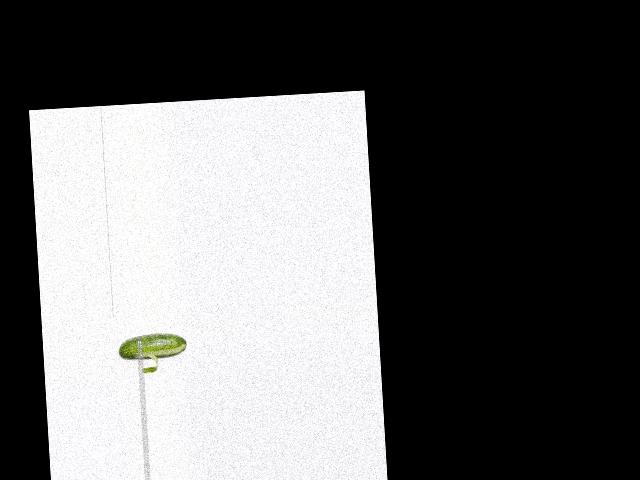cucumber: (117, 332, 187, 362)
